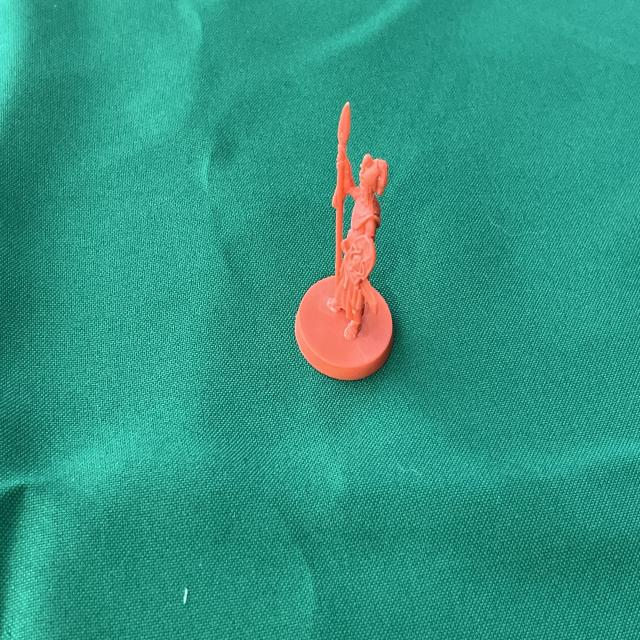amon_follower: (295, 103, 392, 380)
